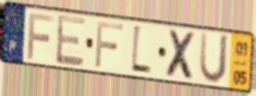E: (55, 13, 87, 68)
F: (94, 20, 125, 70), (26, 10, 56, 61)
L: (130, 22, 153, 77)
U: (198, 30, 231, 87)
X: (164, 27, 198, 83)
